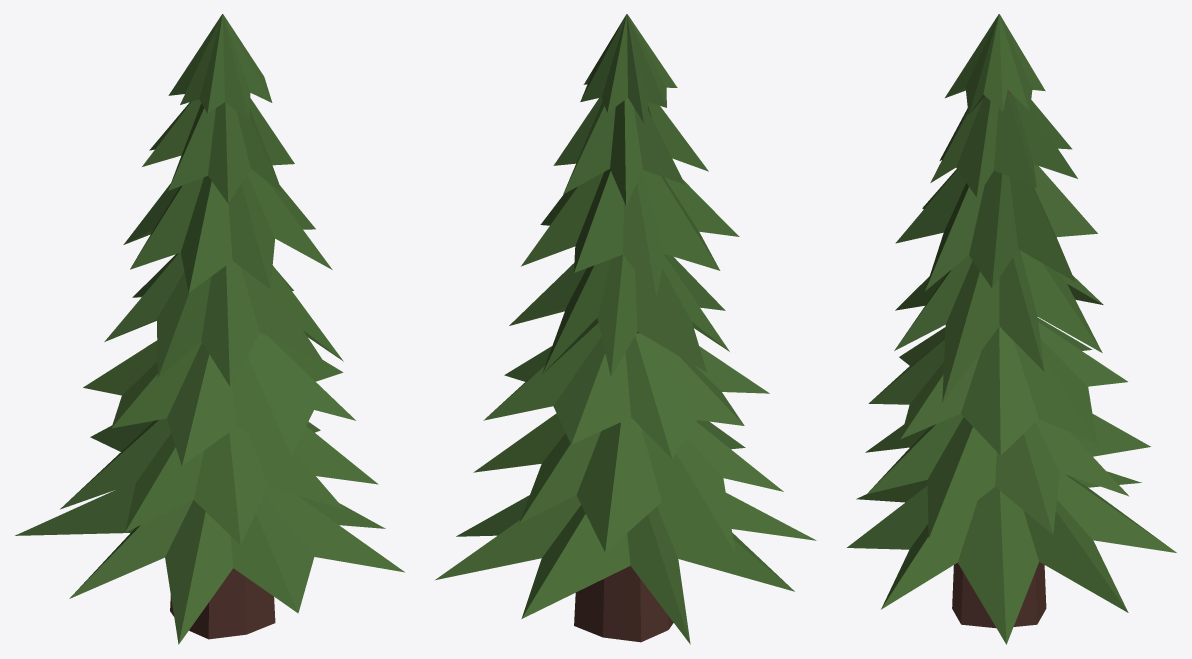
Rendered from Tree2.fbx.
3 renders of one model, left to right at view 1: azimuth 30°, elevation 25°; view 2: azimuth 150°, elevation 25°; view 3: azimuth 270°, elevation 25°, orthographic.
Parts seen in each view (by area): view 1: Cube.001; view 2: Cube.001; view 3: Cube.001.
Part boxes in pixels (x1,y1,x2,y2): Cube.001: (15,14,404,644); Cube.001: (435,14,816,644); Cube.001: (847,14,1176,644).
Bounding box in the file's own units: 286 × 502 × 254.
